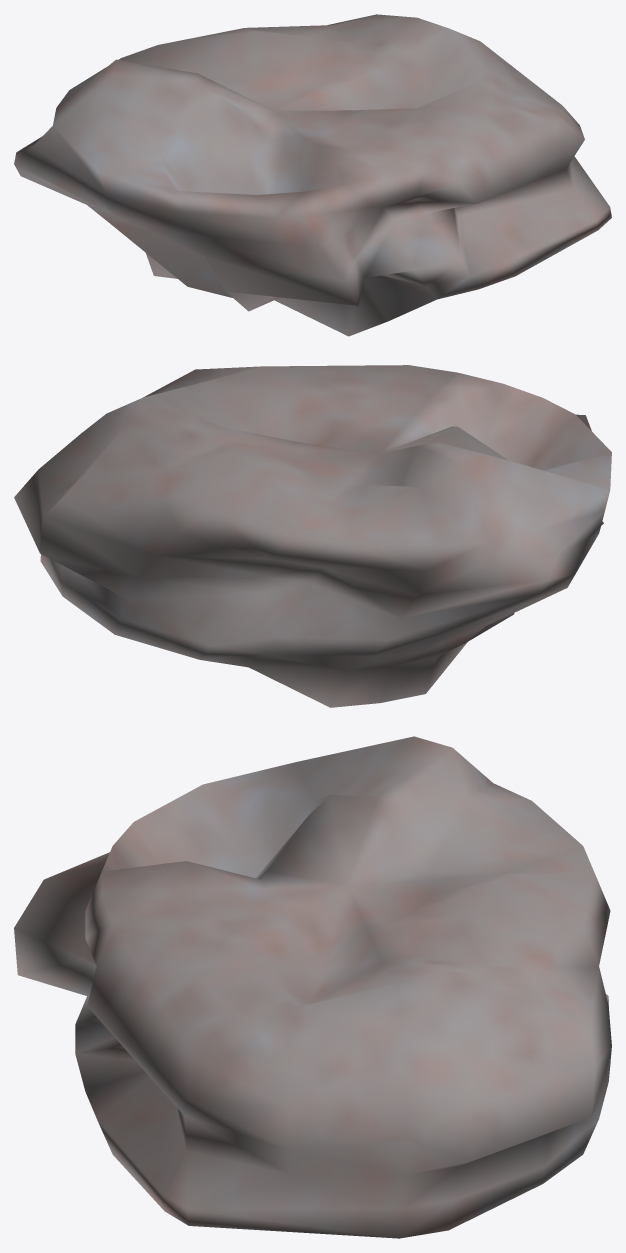
File: Meteorito_03.fbx
3 renders of one model, top to bottom at view 1: azimuth 30°, elevation 25°; view 2: azimuth 150°, elevation 25°; view 3: azimuth 270°, elevation 25°, orthographic. The views are drawn at different scales.
Parts seen in each view (by area): view 1: Meteorito_03; view 2: Meteorito_03; view 3: Meteorito_03.
Boxes of the visible parts, x1,y1,x2,y2 form: Meteorito_03: (14,14,611,336); Meteorito_03: (14,365,611,707); Meteorito_03: (14,736,611,1238).
Bounding box in the file's own units: 3378 × 1447 × 2673.
1 material, 1 textured.
